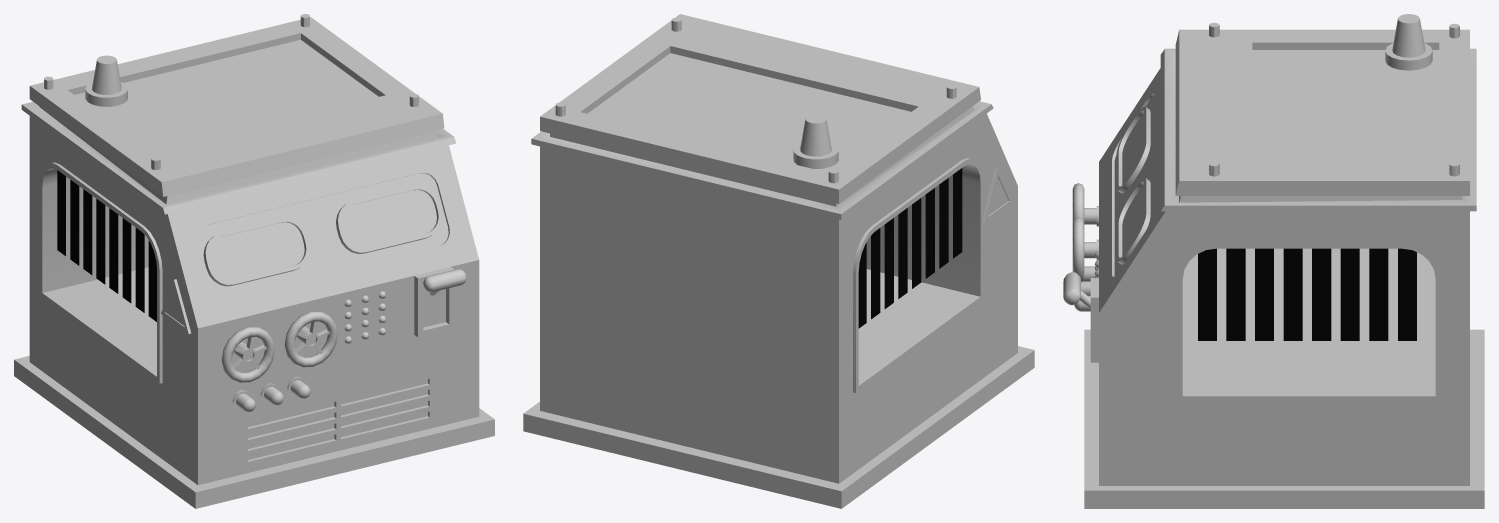
Rendered from Machn_v2_2.fbx.
3 views of the same model, side by side, from view 1: azimuth 30°, elevation 25°; view 2: azimuth 150°, elevation 25°; view 3: azimuth 270°, elevation 25° (orthographic). The views are drawn at different scales.
Parts seen in each view (by area): view 1: Machn_v2_2, Plane_1.002, Machn_v2_Rotate_Red, Machn_v2_Rotate_Green, AlertOrange.011, Pc_1; view 2: Machn_v2_2, Plane_1.002, AlertOrange.011; view 3: Machn_v2_2, Plane_2.002, AlertOrange.011, Machn_v2_Rotate_Green, Machn_v2_Rotate_Red, Pc_1.
Part boxes in pixels (x1,y1,x2,y2): Machn_v2_2: (14, 14, 494, 508); Plane_1.002: (57, 170, 156, 321); Machn_v2_Rotate_Red: (221, 327, 274, 382); Machn_v2_Rotate_Green: (284, 311, 337, 367); AlertOrange.011: (85, 55, 127, 106); Pc_1: (423, 269, 466, 295); Machn_v2_2: (523, 14, 1034, 508); Plane_1.002: (858, 168, 962, 328); AlertOrange.011: (793, 114, 838, 168); Machn_v2_2: (1074, 22, 1484, 508); Plane_2.002: (1198, 248, 1416, 340); AlertOrange.011: (1385, 14, 1432, 70); Machn_v2_Rotate_Green: (1072, 217, 1098, 282); Machn_v2_Rotate_Red: (1072, 183, 1098, 226); Pc_1: (1063, 272, 1090, 308).
Bounding box in the file's own units: 263 × 275 × 291.
